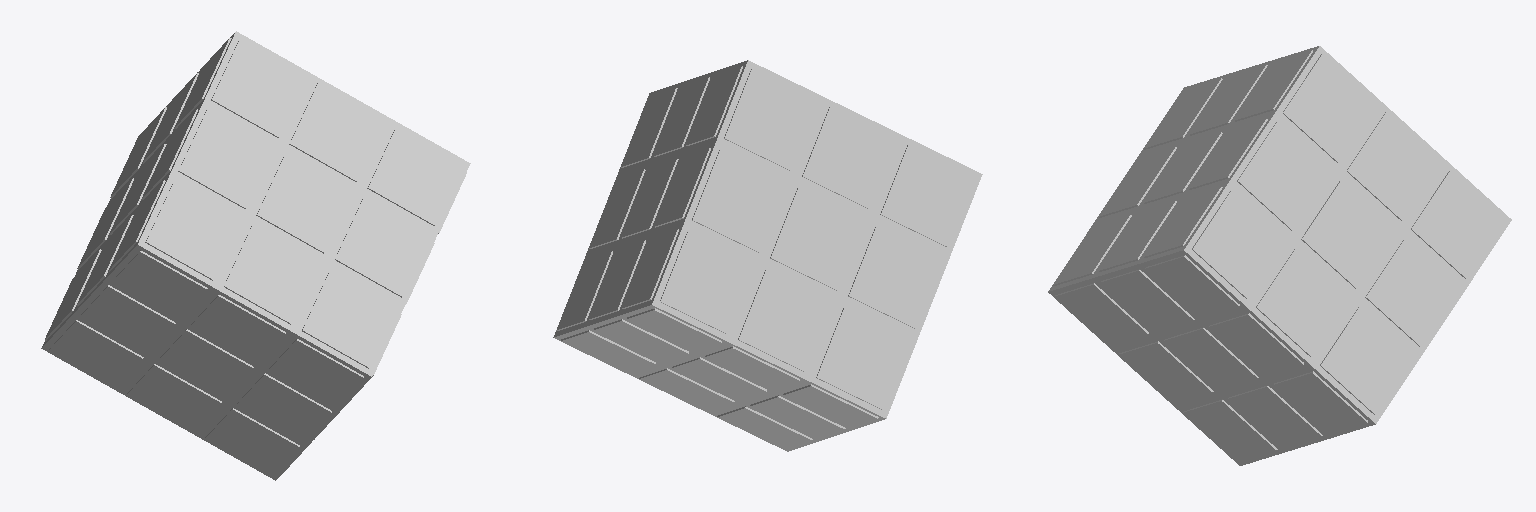
The model's file is rubiks cube.obj.
3 renders of one model, left to right at view 1: azimuth 30°, elevation 25°; view 2: azimuth 150°, elevation 25°; view 3: azimuth 270°, elevation 25°, orthographic.
Parts seen in each view (by area): view 1: 3x3_rubiks_cube_Cube.036; view 2: 3x3_rubiks_cube_Cube.036; view 3: 3x3_rubiks_cube_Cube.036.
Boxes of the visible parts, box(x1,y1,x2,y2) form: 3x3_rubiks_cube_Cube.036: box(41, 31, 470, 480); 3x3_rubiks_cube_Cube.036: box(553, 60, 982, 451); 3x3_rubiks_cube_Cube.036: box(1048, 46, 1511, 465).
Bounding box in the file's own units: 2.83 × 3.41 × 3.41.